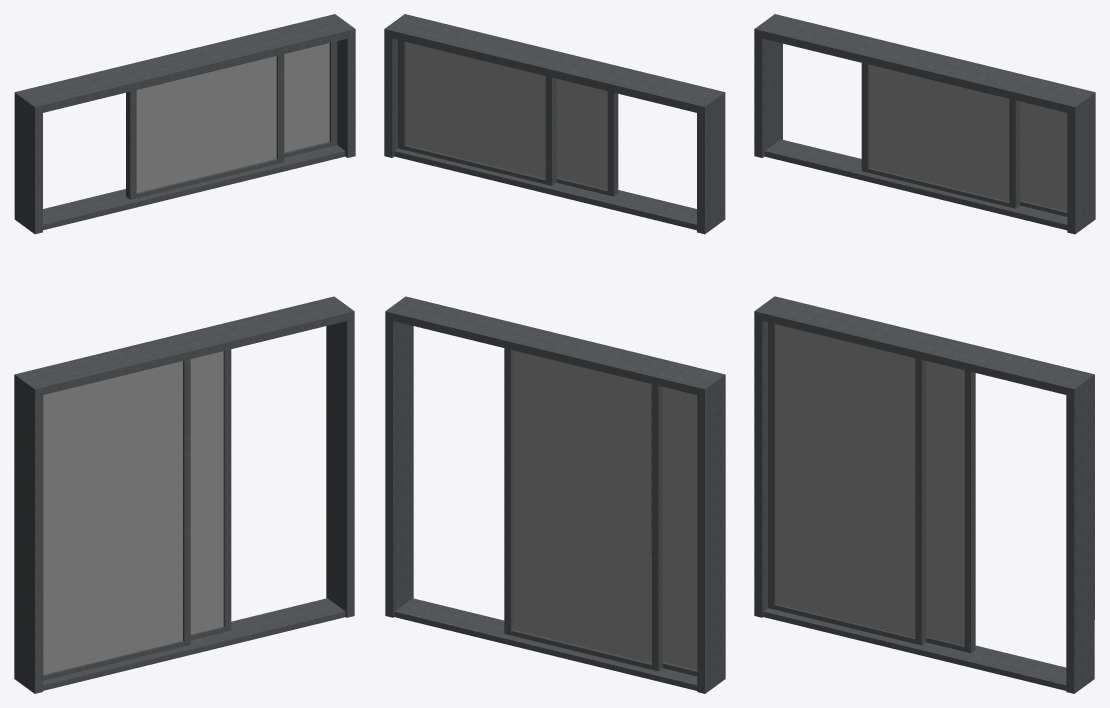
The model's file is chuanghu_02.FBX.
3 renders of one model, left to right at view 1: azimuth 30°, elevation 25°; view 2: azimuth 150°, elevation 25°; view 3: azimuth 330°, elevation 25°, orthographic.
Visible parts, largest first — view 1: fangzi_boli01, fangzi_11; view 2: fangzi_boli01, fangzi_11; view 3: fangzi_boli01, fangzi_11.
Part boxes in pixels (left/top/right/bottom): fangzi_boli01: left=43, top=43, right=329, bottom=674; fangzi_11: left=14, top=14, right=355, bottom=693; fangzi_boli01: left=406, top=42, right=697, bottom=669; fangzi_11: left=384, top=14, right=725, bottom=693; fangzi_boli01: left=775, top=65, right=1067, bottom=645; fangzi_11: left=754, top=14, right=1095, bottom=693.
Size of the model in its own units: 266 by 465 by 29.44.
